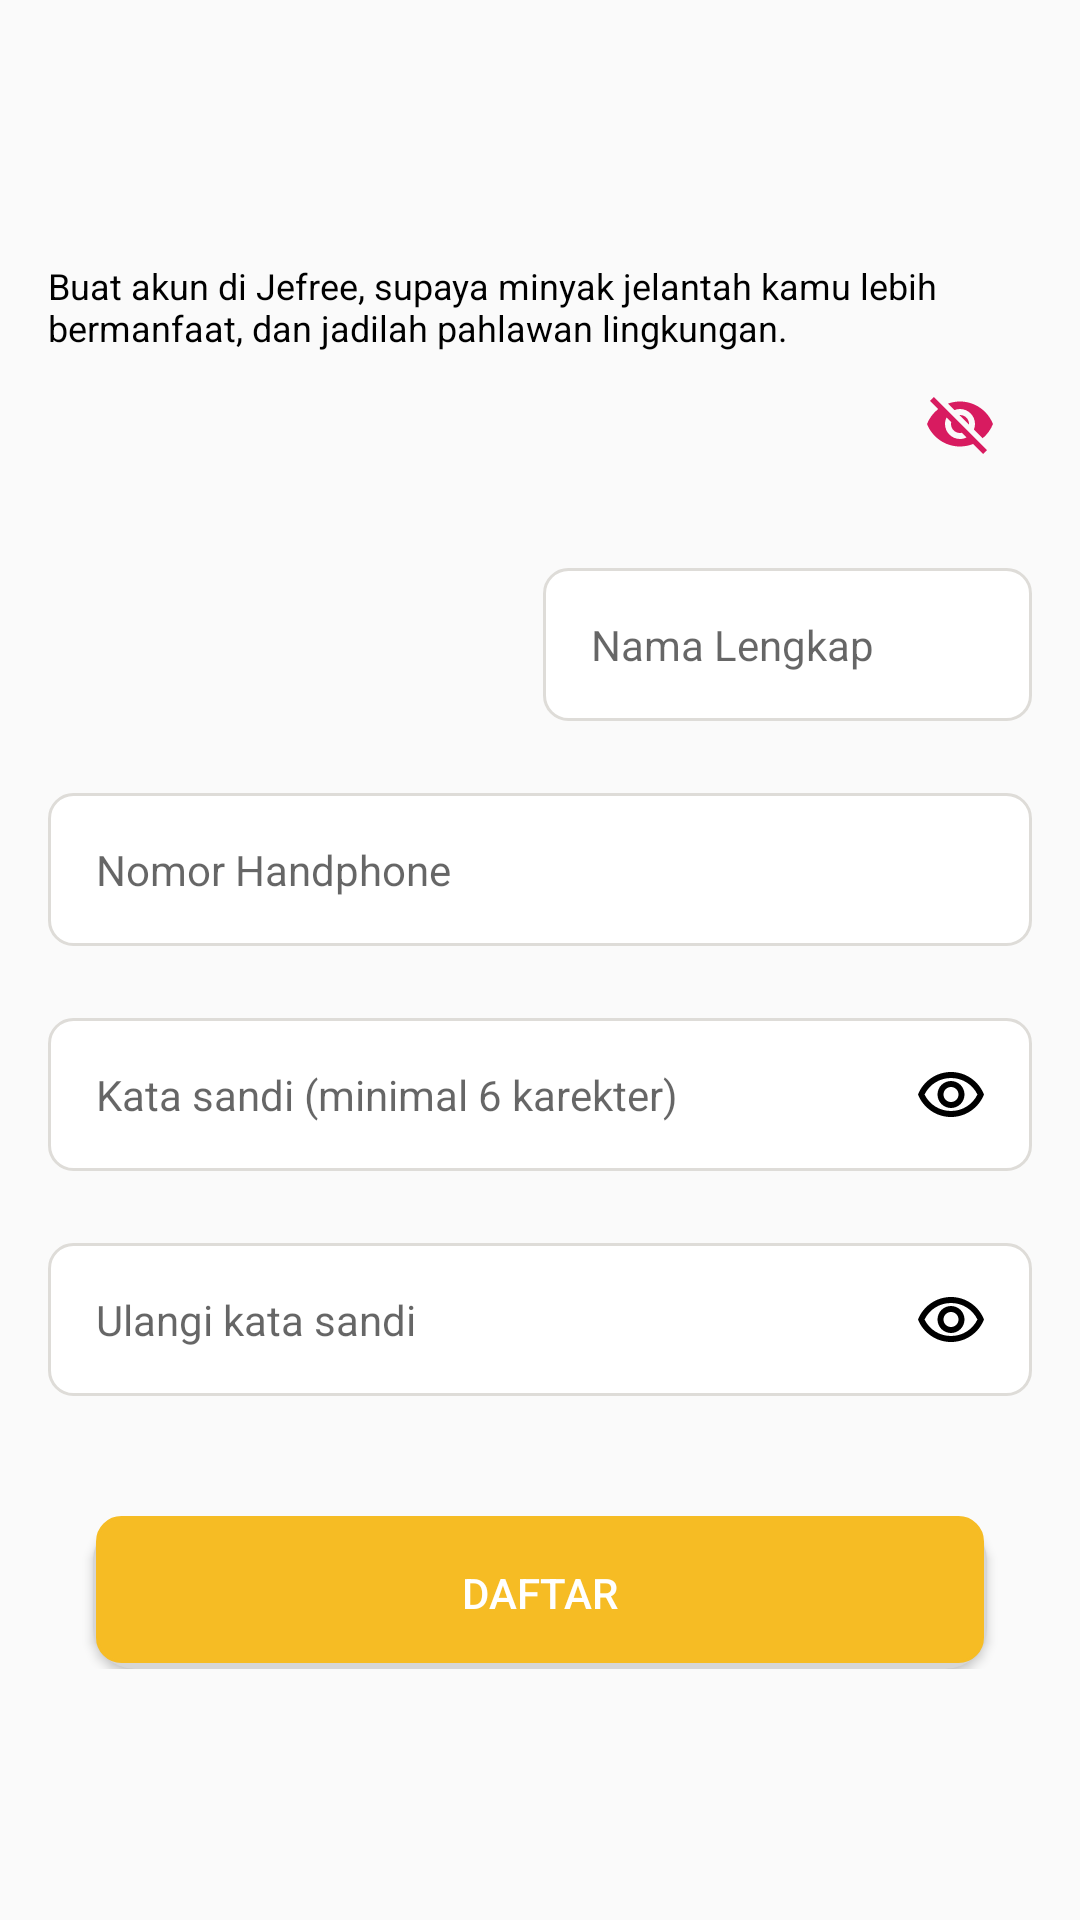

Icons on this 1080px×1920px Android screen, each with its box as BBox(x1, y1, x2, y2):
show password: BBox(918, 1072, 984, 1117), BBox(918, 1297, 984, 1342)
